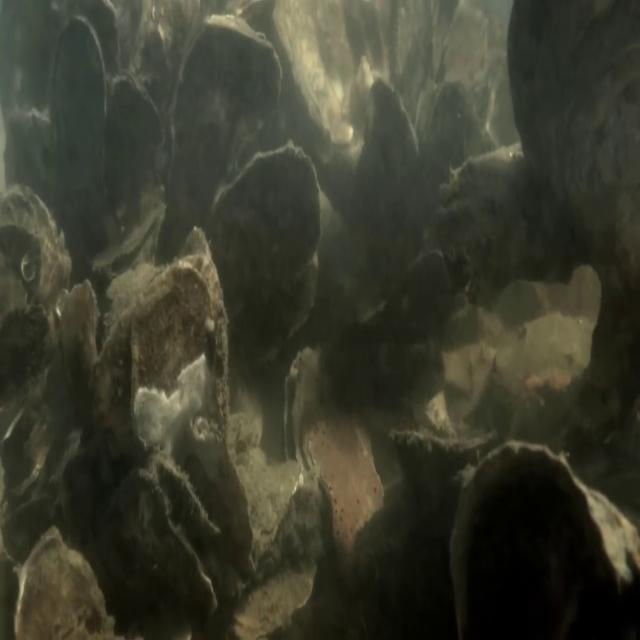Oyster-Closed: (204, 138, 323, 320), (269, 5, 356, 151)
Oyster-Indeterminate: (126, 218, 256, 576), (444, 438, 639, 639), (0, 181, 73, 552), (168, 12, 286, 240), (47, 12, 111, 247), (349, 76, 432, 240), (12, 522, 121, 639), (110, 62, 165, 202), (390, 3, 414, 83)
Oyster-Open: (277, 336, 387, 597), (135, 452, 229, 626), (91, 202, 164, 283)
